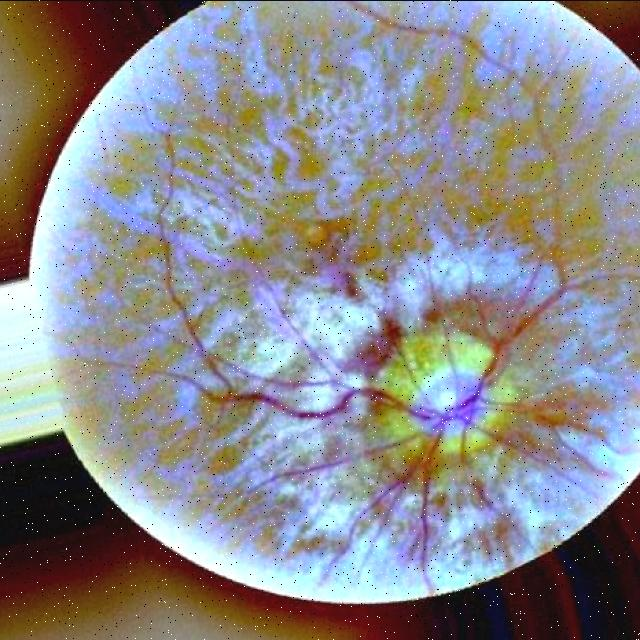Nerves: (177, 276, 573, 595)
Optic Disk: (376, 319, 523, 464)
